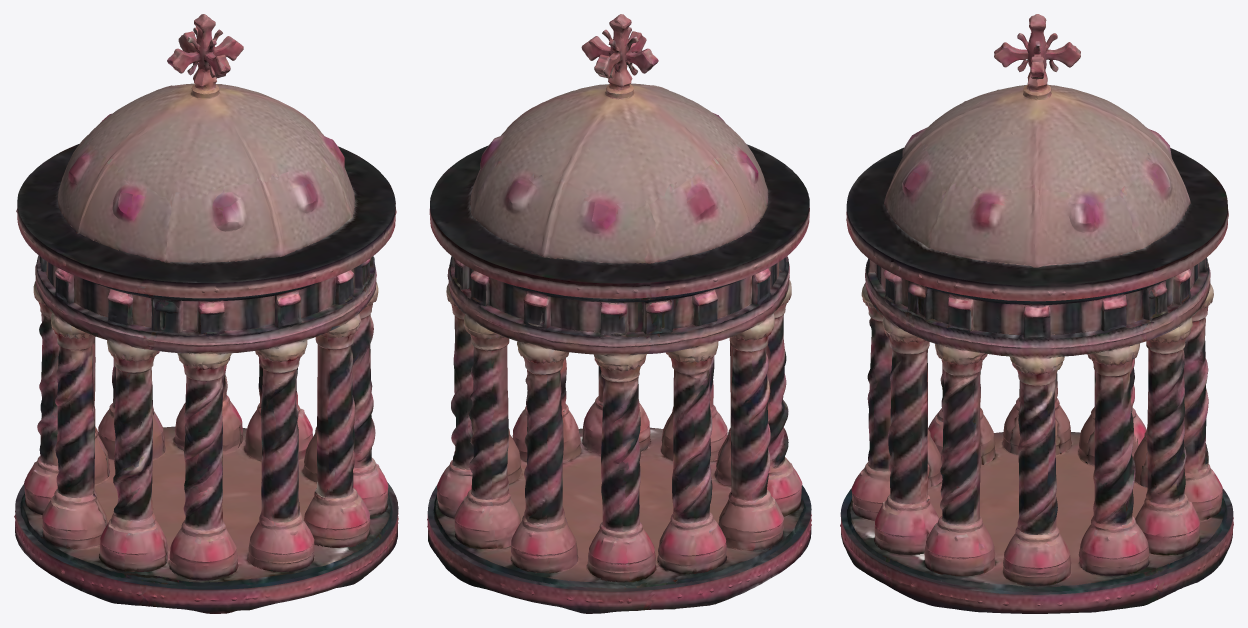
Rendered from rook_black.glb.
The picture shows the model from 3 angles, left to right: view 1: azimuth 30°, elevation 25°; view 2: azimuth 150°, elevation 25°; view 3: azimuth 270°, elevation 25°; orthographic projection.
Parts seen in each view (by area): view 1: model; view 2: model; view 3: model.
Part boxes in pixels (x1,y1,x2,y2): model: [14, 14, 398, 613]; model: [427, 14, 811, 613]; model: [840, 14, 1233, 613].
Bounding box in the file's own units: 1.27 × 1.9 × 1.3.
Materials: 1 (1 with a texture image).
